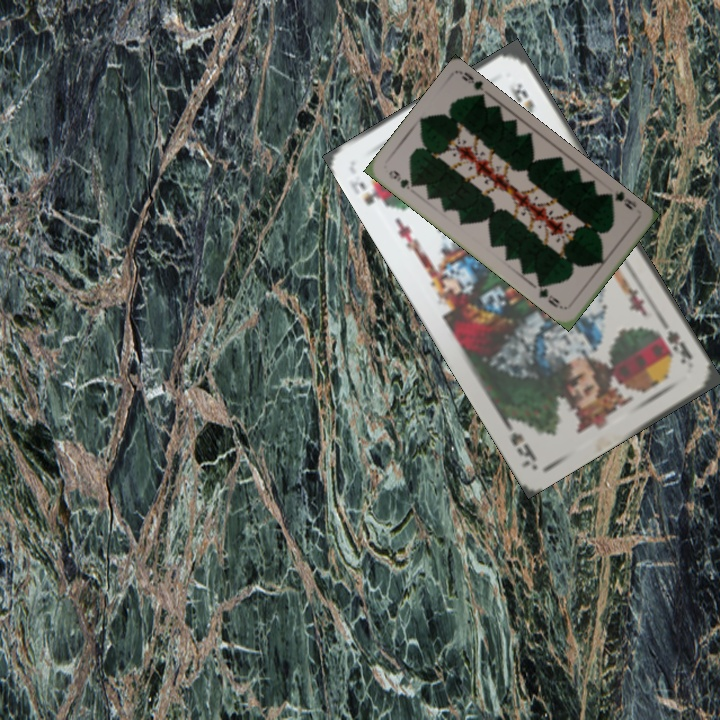G9: (384, 166, 418, 192), (604, 188, 639, 212)
SK: (652, 326, 695, 367), (355, 167, 391, 210)
